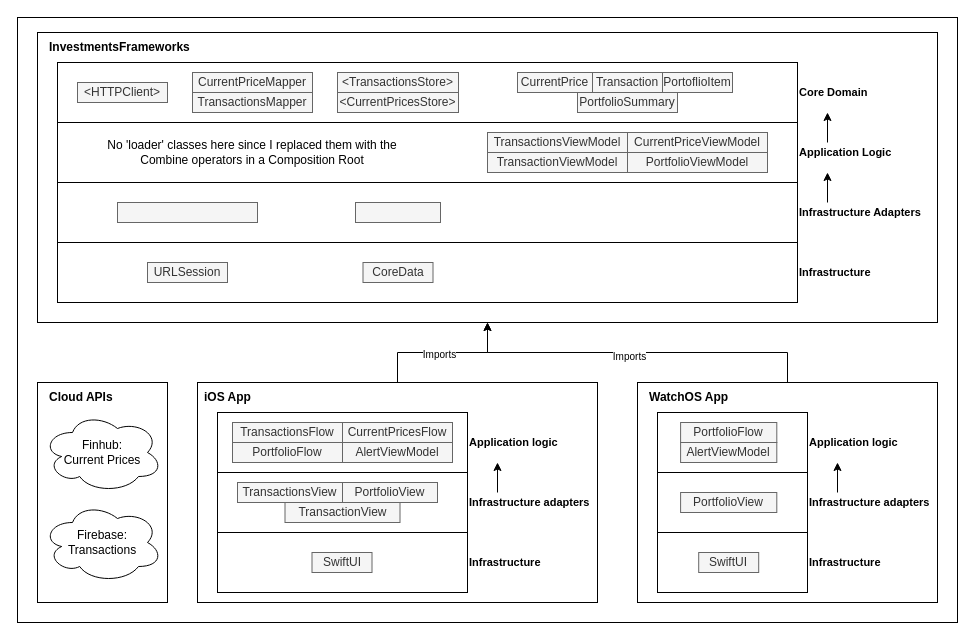
The diagram is 975 pixels wide and 640 high, and some of its shapes have lost their labels. The shapes that lost their labels are listed below. From the top down, each one's centre as x and y in pixels, then its label:
At point (187, 212): "URLSessionHTTPClient".
At point (397, 212): "CoreDataStore".
